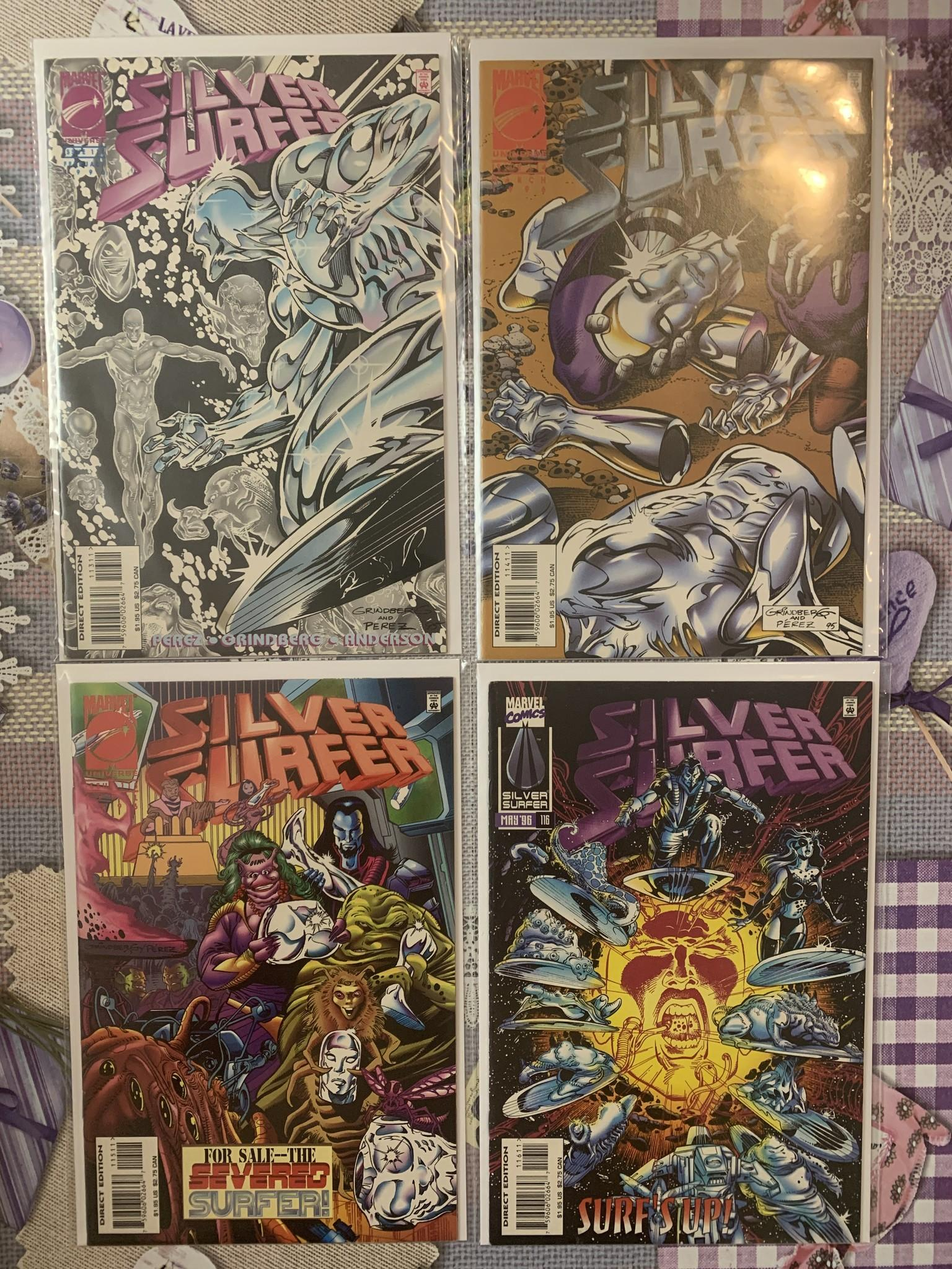comic: (36, 26, 471, 666), (472, 38, 886, 661), (58, 657, 466, 1248), (480, 663, 877, 1246)
